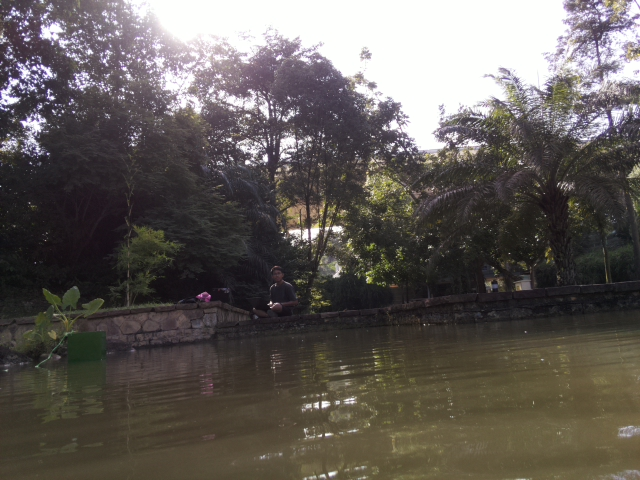obstacle: (64, 330, 109, 364)
